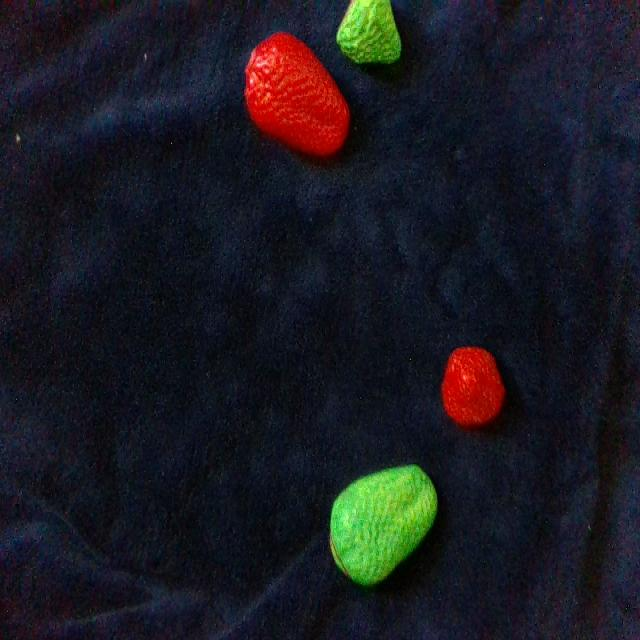chica_roja: (441, 347, 505, 427)
grande_roja: (246, 32, 349, 155)
verde: (330, 465, 437, 585), (336, 0, 400, 63)
